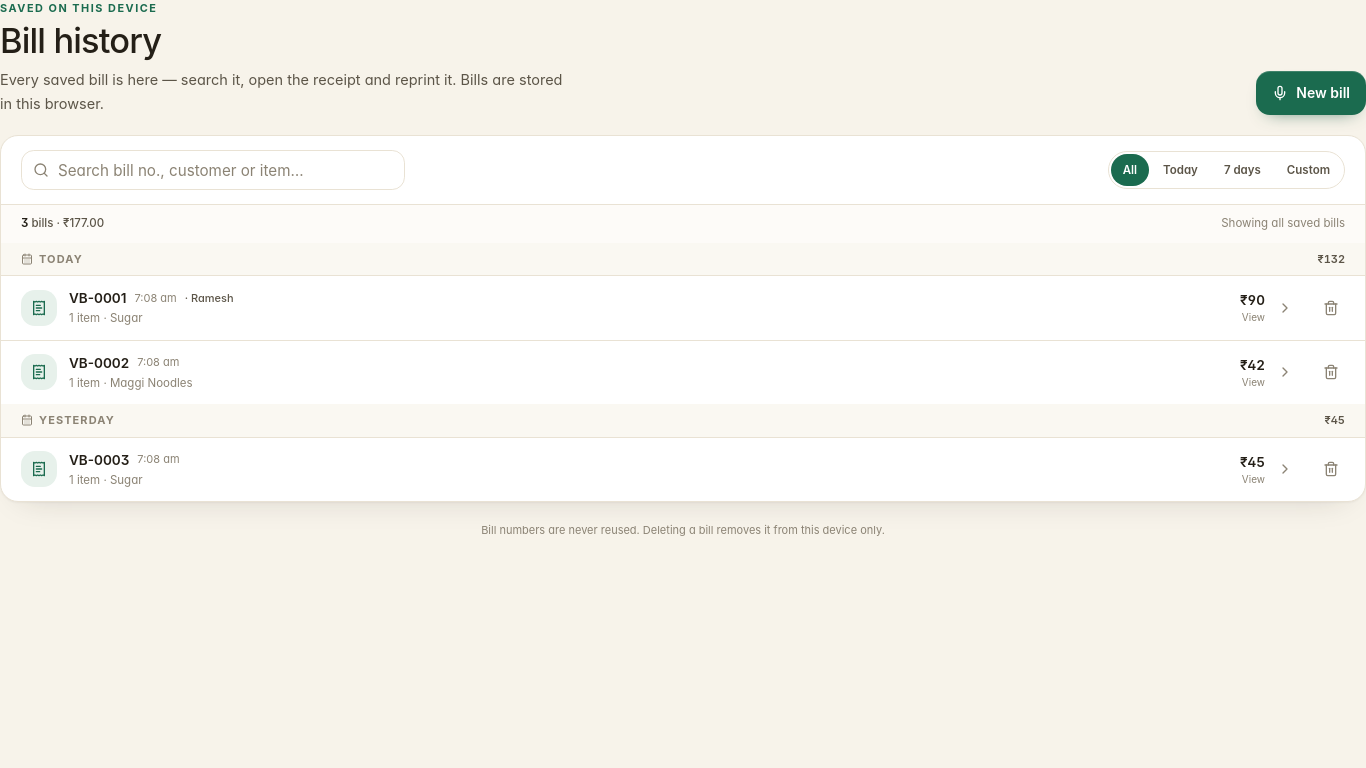
Test: bill history › reopens the saved receipt
Later steps or results of the test are not shown.
Expected: the text "VB-0001" is shown, [69,288,126,308]
Click the button with aria-label "Open receipt VB-0001" at (39, 308), box [1,276,1313,340]
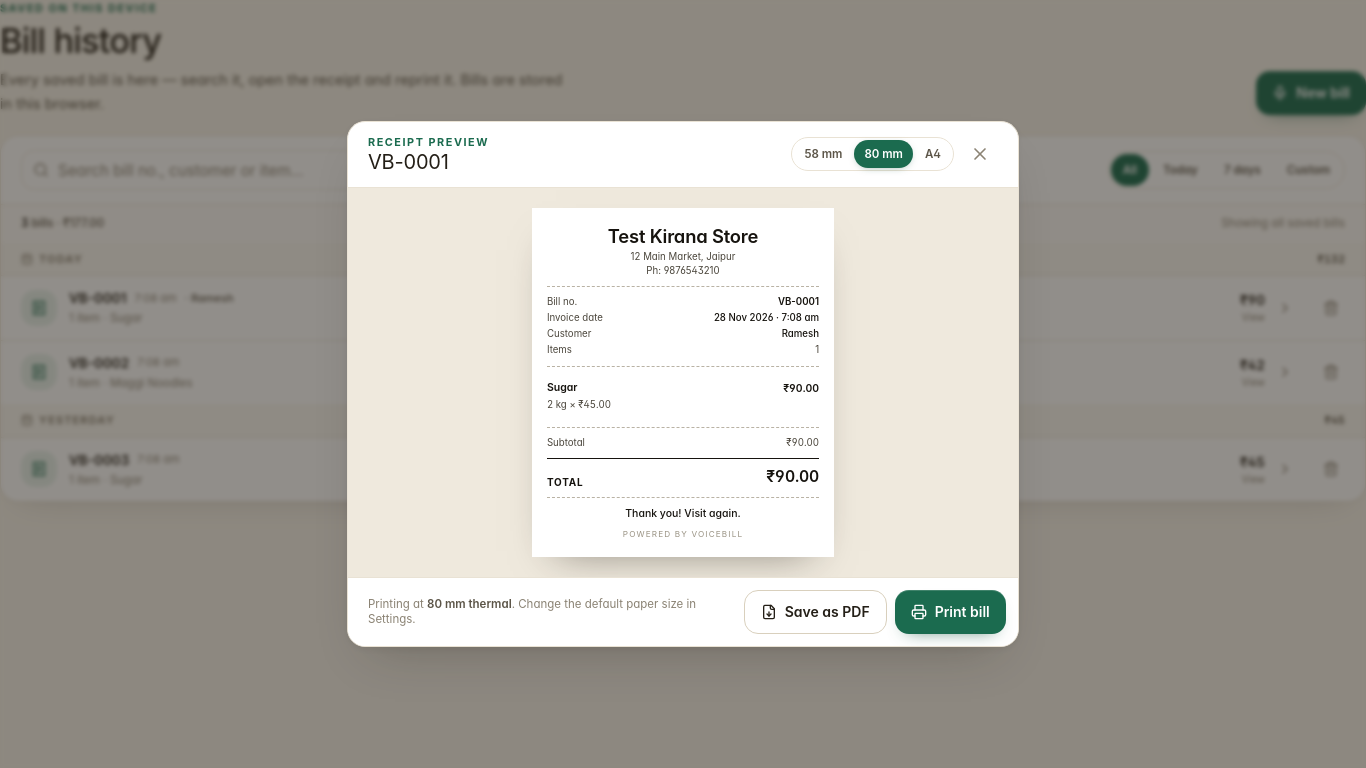
Result: the heading "Test Kirana Store" is shown at [608,225,758,247]
